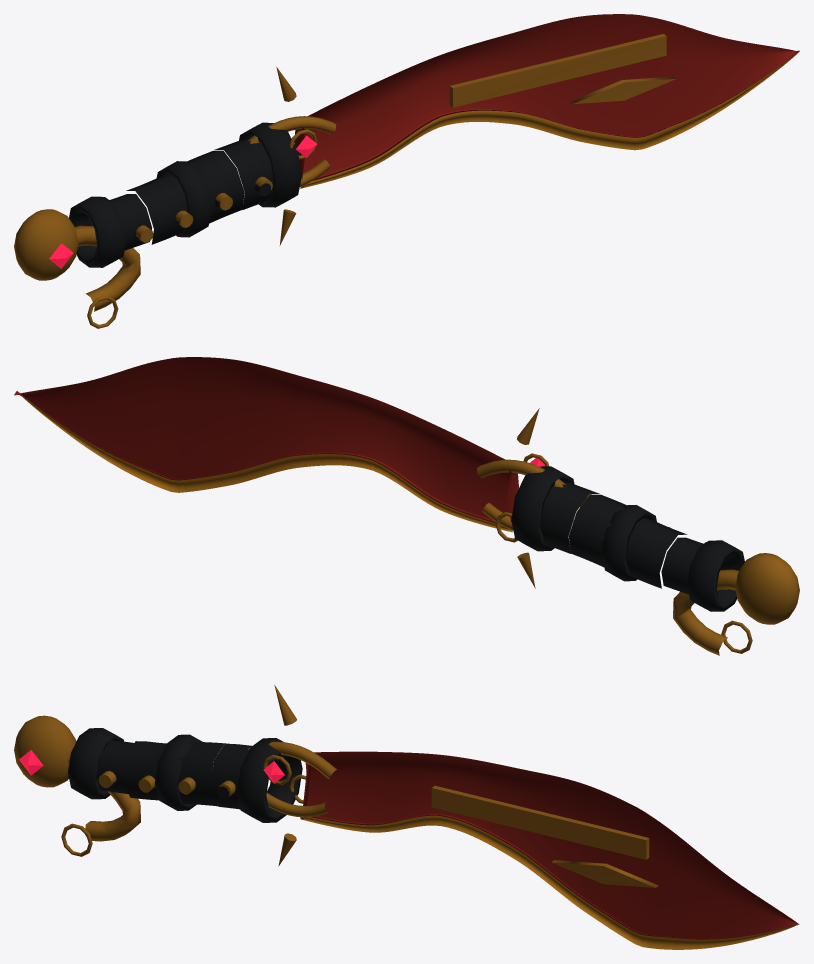
The model's file is dragonfang-kukri-assembly-r1.glb.
3 views of the same model, one above another, from view 1: azimuth 30°, elevation 25°; view 2: azimuth 150°, elevation 25°; view 3: azimuth 330°, elevation 25° (orthographic).
Parts seen in each view (by area): view 1: knife-part:blade-body, knife-part:grip, knife-part:pommel, knife-part:relief-dragon-spine, knife-part:cutting-edge, knife-part:guard, knife-part:relief-dragon-belly; view 2: knife-part:blade-body, knife-part:grip, knife-part:pommel, knife-part:cutting-edge, knife-part:guard; view 3: knife-part:blade-body, knife-part:grip, knife-part:relief-dragon-spine, knife-part:pommel, knife-part:cutting-edge, knife-part:guard, knife-part:relief-dragon-belly.
Boxes of the visible parts, <box> form: knife-part:blade-body: <box>294,14,799,180</box>; knife-part:grip: <box>69,122,301,267</box>; knife-part:pommel: <box>14,209,140,328</box>; knife-part:relief-dragon-spine: <box>449,34,666,107</box>; knife-part:cutting-edge: <box>300,52,798,188</box>; knife-part:guard: <box>247,67,336,245</box>; knife-part:relief-dragon-belly: <box>570,76,676,104</box>; knife-part:blade-body: <box>14,357,518,523</box>; knife-part:grip: <box>511,466,744,611</box>; knife-part:pommel: <box>673,553,799,655</box>; knife-part:cutting-edge: <box>23,397,512,532</box>; knife-part:guard: <box>477,408,565,588</box>; knife-part:blade-body: <box>303,751,799,939</box>; knife-part:grip: <box>68,728,302,822</box>; knife-part:relief-dragon-spine: <box>431,785,649,859</box>; knife-part:pommel: <box>14,715,140,856</box>; knife-part:cutting-edge: <box>300,815,796,949</box>; knife-part:guard: <box>248,685,336,866</box>; knife-part:relief-dragon-belly: <box>551,860,658,887</box>.
Bounding box in the file's own units: 3.14 × 0.7988 × 0.303.
